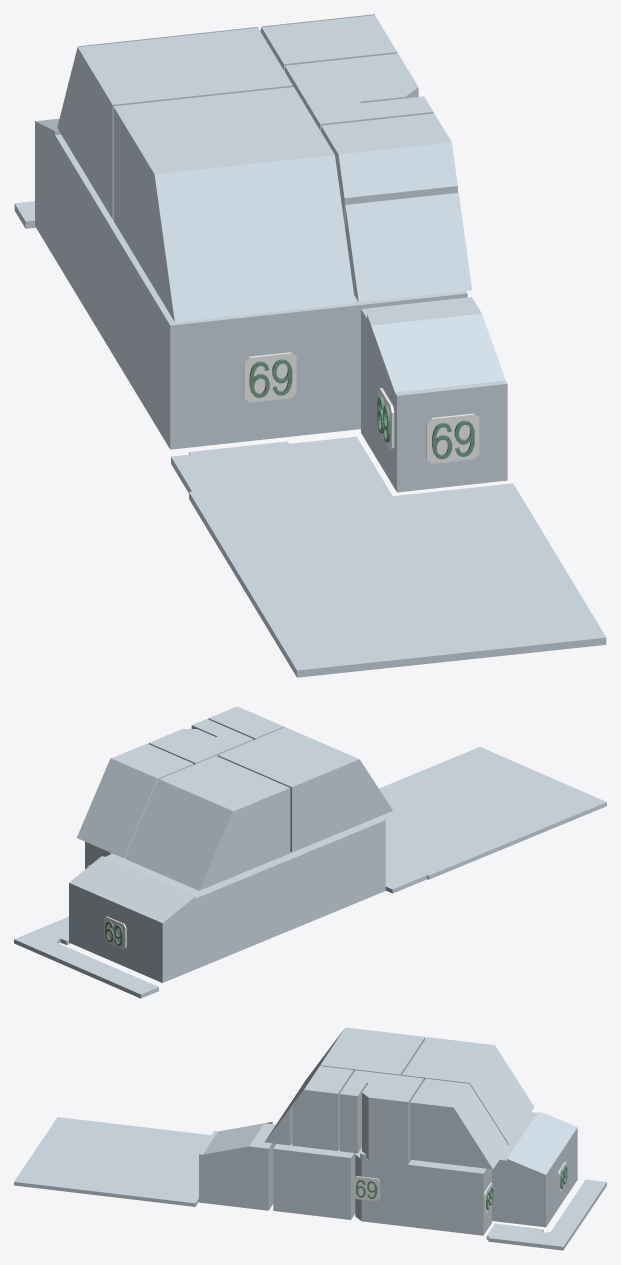
3 renders of one model, top to bottom at view 1: azimuth 30°, elevation 25°; view 2: azimuth 150°, elevation 25°; view 3: azimuth 270°, elevation 25°, orthographic. The views are drawn at different scales.
Visible parts, largest first — view 1: g_13, g_7, g_0, g_5, g_8, g_1, g_12, g_6, g_10, g_9, g_11, g_21 (+1 smaller); view 2: g_1, g_13, g_8, g_7, g_9, g_0, g_15, g_10, g_6, g_14, g_11, g_24; view 3: g_13, g_1, g_9, g_8, g_5, g_0, g_4, g_7, g_6, g_11, g_2, g_10 (+4 smaller).
Boxes of the visible parts, x1,y1,x2,y2 form: g_13: (171,436,606,677); g_7: (113,87,355,322); g_0: (130,258,467,449); g_5: (361,297,507,492); g_8: (57,27,292,219); g_1: (35,118,135,382); g_12: (345,192,471,302); g_6: (321,113,457,229); g_10: (285,58,433,131); g_9: (260,14,397,71); g_11: (348,53,418,103); g_21: (243,352,296,402); g_1: (69,844,318,982); g_13: (379,747,606,893); g_8: (125,756,290,890); g_7: (217,727,392,852); g_9: (77,743,193,857); g_0: (312,817,385,918); g_15: (38,942,158,998); g_10: (167,719,253,764); g_6: (208,706,284,739); g_14: (14,916,70,953); g_11: (148,729,215,751); g_24: (104,916,126,949); g_13: (14,1117,210,1206); g_1: (492,1111,577,1227); g_9: (410,1078,508,1169); g_8: (402,1037,534,1144); g_5: (199,1122,276,1210); g_0: (273,1143,355,1219); g_4: (410,1160,491,1235); g_7: (281,1027,425,1116); g_6: (292,1066,353,1150); g_11: (362,1083,414,1159); g_2: (355,1147,413,1226); g_10: (339,1070,423,1153).
Bounding box in the file's own units: 11.57 × 5.36 × 22.3.
